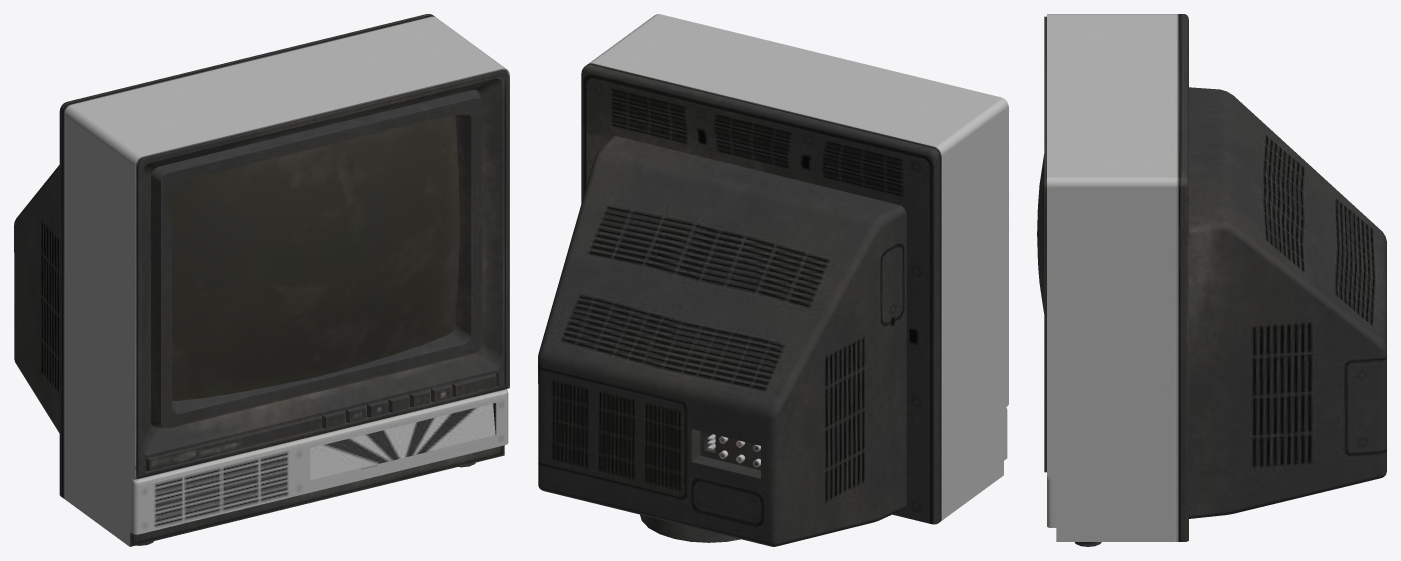
File: television_02.lod1.glb
3 renders of one model, left to right at view 1: azimuth 30°, elevation 25°; view 2: azimuth 150°, elevation 25°; view 3: azimuth 270°, elevation 25°, orthographic. The views are drawn at different scales.
Parts seen in each view (by area): view 1: television_02; view 2: television_02; view 3: television_02.
Boxes of the visible parts, x1,y1,x2,y2 form: television_02: [14, 14, 509, 546]; television_02: [538, 14, 1008, 546]; television_02: [1037, 14, 1386, 546].
Size of the model in its own units: 0.3997 by 0.4114 by 0.3502.
1 material, 1 textured.
